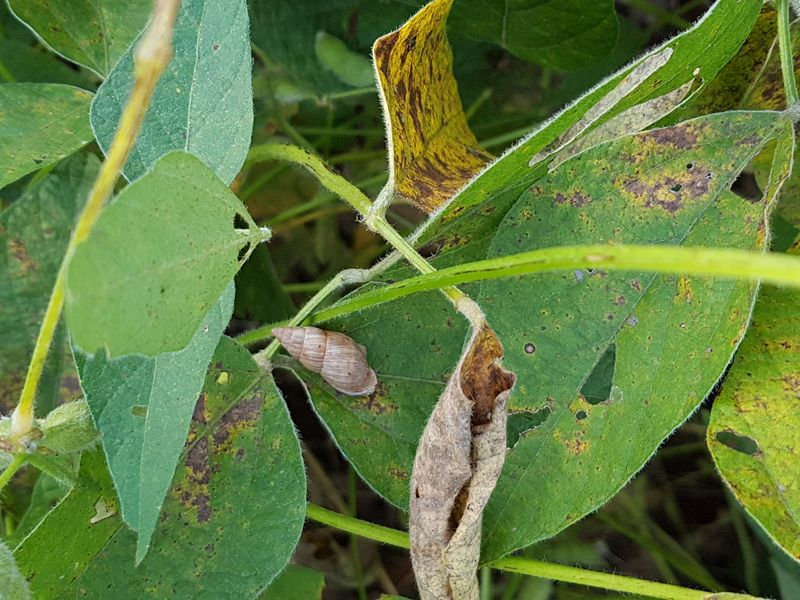Gastropoda: (264, 314, 384, 410)
